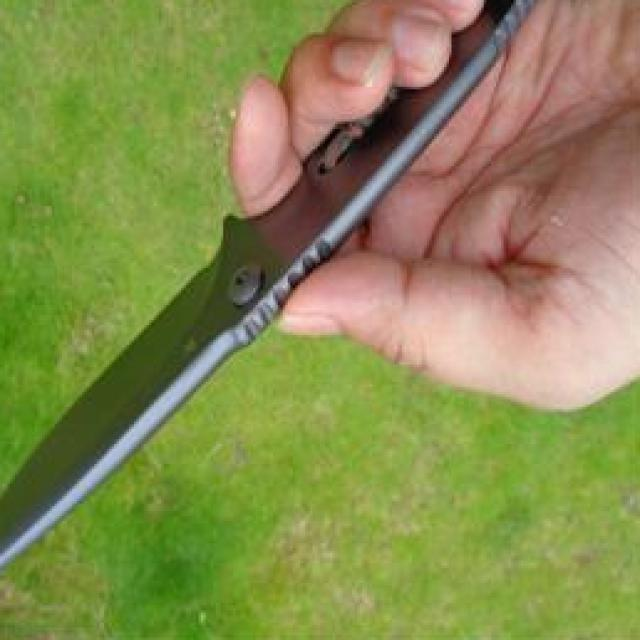knife: (0, 0, 573, 615)
